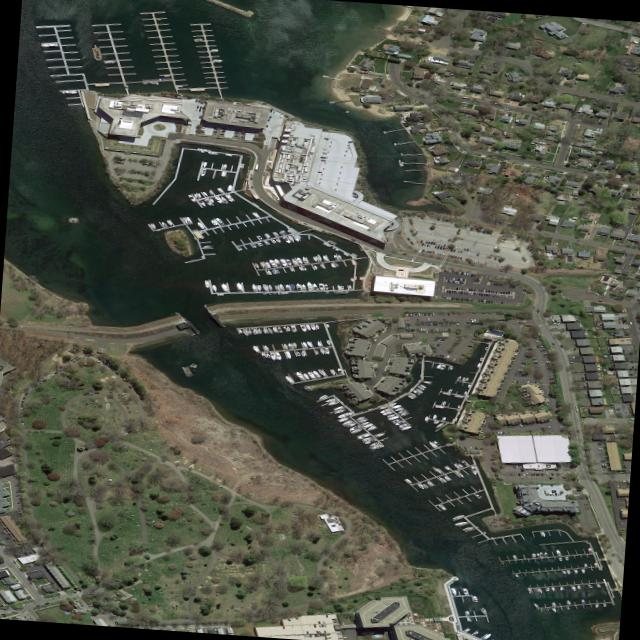large-vehicle: (98, 357, 107, 362), (253, 163, 259, 169), (493, 245, 497, 249), (279, 114, 282, 118)
ship: (336, 411, 354, 419), (294, 371, 306, 381), (355, 432, 372, 439), (181, 216, 194, 225), (284, 375, 296, 384), (370, 443, 385, 450), (450, 513, 465, 520), (431, 466, 444, 474), (453, 520, 470, 526), (272, 257, 282, 267), (316, 368, 327, 377), (333, 408, 347, 415), (481, 632, 493, 640), (454, 470, 466, 478), (434, 421, 446, 429), (389, 403, 402, 410), (325, 400, 340, 406), (267, 258, 277, 267), (311, 370, 322, 378), (214, 217, 225, 225), (223, 194, 234, 202), (218, 196, 229, 204), (212, 196, 223, 204), (186, 194, 197, 202), (317, 393, 329, 400), (379, 407, 391, 414), (386, 415, 400, 421), (349, 428, 363, 434), (363, 438, 377, 444), (461, 526, 475, 532), (278, 258, 287, 267), (268, 351, 276, 361), (306, 371, 316, 379), (281, 236, 291, 244), (221, 282, 229, 292), (210, 219, 220, 227), (197, 199, 207, 207), (361, 423, 374, 429), (338, 416, 351, 422), (385, 401, 398, 407), (399, 425, 412, 431), (393, 420, 406, 426), (341, 419, 354, 425), (344, 422, 357, 428), (348, 425, 361, 431), (360, 436, 373, 442), (437, 476, 448, 483), (427, 441, 438, 448), (39, 43, 58, 47), (365, 425, 377, 431), (374, 432, 386, 438), (284, 350, 292, 359), (274, 351, 282, 360), (301, 372, 310, 380), (332, 405, 344, 411), (251, 344, 260, 352), (393, 406, 405, 412), (396, 408, 408, 414), (397, 422, 409, 428), (286, 235, 295, 243), (368, 441, 380, 447), (449, 587, 458, 595), (291, 234, 300, 242), (252, 262, 261, 270), (196, 221, 205, 229), (203, 198, 212, 206), (416, 482, 425, 490), (236, 281, 243, 291), (250, 211, 260, 218), (192, 192, 202, 199), (470, 465, 477, 475), (324, 397, 337, 402), (299, 324, 307, 332), (321, 254, 329, 262), (258, 261, 266, 269), (284, 258, 292, 266), (199, 168, 207, 176), (286, 342, 295, 349), (306, 281, 313, 290), (211, 284, 218, 293), (359, 421, 371, 426), (354, 416, 366, 421), (414, 387, 424, 393), (408, 392, 418, 398), (381, 411, 393, 416), (389, 418, 401, 423), (425, 480, 435, 486), (437, 504, 447, 510), (312, 282, 319, 290), (295, 282, 302, 290), (461, 588, 469, 595), (309, 323, 316, 331), (289, 325, 297, 332), (305, 341, 313, 348), (315, 255, 323, 262), (290, 258, 298, 265), (295, 257, 303, 264), (301, 257, 309, 264), (165, 219, 173, 226), (357, 418, 368, 423), (412, 389, 421, 395), (432, 440, 441, 446), (443, 465, 452, 471), (460, 460, 469, 466), (61, 90, 78, 93), (386, 413, 396, 418), (331, 246, 341, 251), (321, 242, 331, 247), (630, 39, 640, 44), (336, 368, 343, 375), (263, 344, 270, 351), (323, 347, 330, 354), (318, 348, 325, 355), (480, 607, 487, 614), (317, 283, 324, 290), (278, 283, 285, 290), (301, 341, 308, 348), (261, 284, 268, 291), (305, 324, 312, 331), (276, 326, 283, 333), (325, 339, 332, 346), (311, 255, 318, 262), (264, 261, 271, 268), (149, 222, 156, 229), (328, 369, 336, 375), (419, 383, 427, 389), (266, 327, 274, 333), (201, 244, 213, 248), (207, 151, 219, 155), (160, 221, 168, 227), (216, 187, 224, 193), (453, 463, 461, 469), (443, 475, 451, 481), (406, 394, 415, 399), (399, 412, 410, 416), (555, 549, 561, 556), (282, 342, 288, 349), (323, 283, 329, 290), (267, 284, 273, 291), (472, 595, 478, 602), (336, 254, 343, 260), (350, 259, 357, 265), (333, 261, 340, 267), (265, 269, 272, 275), (201, 191, 208, 197), (226, 184, 232, 191), (202, 161, 208, 168), (222, 163, 228, 170), (103, 60, 117, 63), (604, 284, 611, 290), (301, 349, 306, 357), (422, 380, 432, 384), (378, 406, 388, 410), (251, 283, 256, 291), (204, 280, 209, 288), (422, 483, 430, 488), (454, 394, 464, 398), (295, 350, 301, 356), (265, 352, 271, 358), (260, 352, 266, 358), (416, 386, 425, 390), (291, 342, 297, 348), (471, 631, 480, 635), (273, 285, 279, 291), (537, 587, 543, 593), (314, 323, 320, 329), (271, 326, 277, 332), (257, 328, 263, 334), (252, 328, 258, 334), (246, 328, 252, 334), (316, 340, 322, 346), (319, 263, 325, 269), (301, 265, 307, 271), (208, 197, 214, 203), (208, 189, 214, 195), (220, 171, 226, 177), (587, 547, 593, 553), (475, 362, 481, 368), (540, 531, 546, 537), (441, 400, 447, 406), (264, 233, 271, 238), (281, 230, 288, 235), (274, 238, 281, 243), (464, 627, 471, 632), (301, 283, 306, 290), (532, 602, 539, 607), (256, 284, 261, 291), (253, 242, 260, 247), (475, 493, 482, 498), (538, 552, 545, 557), (342, 252, 350, 256), (456, 463, 464, 467), (273, 231, 279, 236), (271, 238, 277, 243), (290, 284, 295, 290), (285, 284, 290, 290), (580, 568, 586, 573), (571, 585, 576, 591), (580, 599, 586, 604), (550, 607, 556, 612), (285, 326, 291, 331), (262, 327, 267, 333), (242, 329, 247, 335), (237, 328, 242, 334), (330, 262, 335, 268), (297, 266, 303, 271), (288, 267, 294, 272), (271, 268, 276, 274), (251, 243, 257, 248), (602, 290, 608, 295), (375, 76, 385, 79), (543, 551, 549, 556), (531, 552, 536, 558), (435, 364, 441, 369), (440, 364, 446, 369), (424, 416, 430, 421), (431, 414, 437, 419), (527, 586, 531, 593), (433, 420, 440, 424), (224, 153, 233, 156), (442, 392, 451, 395), (435, 405, 444, 408), (286, 229, 291, 234), (336, 284, 341, 289), (565, 569, 570, 574), (566, 599, 571, 604), (333, 255, 338, 260), (512, 554, 517, 559), (442, 416, 447, 421), (449, 365, 454, 370), (448, 388, 453, 393), (256, 235, 262, 239), (278, 231, 284, 235), (264, 240, 270, 244), (258, 242, 264, 246), (466, 617, 472, 621), (583, 563, 589, 567), (561, 570, 567, 574), (595, 583, 601, 587), (587, 584, 593, 588), (296, 234, 302, 238), (237, 246, 243, 250), (212, 59, 223, 61), (539, 141, 546, 144), (315, 349, 319, 354), (348, 284, 352, 289), (466, 610, 470, 615), (593, 562, 598, 566), (551, 587, 556, 591), (551, 602, 556, 606), (275, 269, 280, 273), (193, 38, 203, 40), (558, 557, 563, 561), (479, 357, 484, 361), (484, 346, 489, 350), (535, 553, 540, 557), (457, 376, 462, 380), (461, 377, 466, 381), (467, 383, 471, 388), (463, 390, 467, 395), (210, 49, 219, 51), (431, 131, 437, 134), (559, 586, 563, 590), (573, 569, 577, 573), (546, 587, 550, 591), (602, 603, 606, 607), (313, 265, 317, 269), (564, 556, 568, 560), (93, 44, 97, 48), (216, 293, 224, 295), (503, 131, 507, 135), (521, 94, 525, 98), (465, 377, 469, 381), (457, 404, 461, 408), (350, 277, 353, 282), (565, 606, 570, 609), (341, 285, 344, 289), (514, 574, 518, 577), (577, 585, 580, 589), (595, 604, 598, 608), (450, 72, 454, 75), (634, 36, 640, 38), (155, 81, 159, 84), (200, 150, 205, 152), (600, 567, 603, 570), (467, 175, 470, 178), (468, 178, 471, 181), (96, 59, 101, 60)
small-vehicle: (349, 64, 359, 69), (494, 102, 503, 106), (73, 355, 79, 359), (564, 330, 570, 334), (48, 596, 55, 599), (20, 603, 27, 606), (87, 353, 94, 356), (495, 220, 502, 223), (588, 291, 595, 294), (377, 79, 382, 83), (23, 574, 28, 578), (76, 356, 81, 360), (127, 385, 132, 389), (550, 341, 555, 345), (608, 287, 613, 291), (518, 423, 523, 427), (388, 94, 394, 97), (366, 70, 372, 73), (87, 612, 93, 615), (32, 569, 38, 572), (5, 611, 11, 614), (95, 360, 101, 363), (460, 353, 466, 356), (519, 364, 525, 367), (440, 337, 446, 340), (559, 330, 565, 333), (560, 326, 566, 329), (350, 238, 356, 241), (539, 161, 545, 164), (503, 107, 509, 110), (555, 322, 561, 325), (323, 623, 327, 627), (34, 587, 38, 591), (28, 550, 32, 554), (571, 355, 575, 359), (633, 370, 637, 374), (621, 320, 625, 324), (470, 318, 474, 322), (419, 239, 423, 243), (551, 107, 555, 111), (559, 344, 563, 348), (617, 191, 621, 195), (593, 221, 597, 225), (601, 184, 605, 188), (595, 127, 599, 131), (463, 247, 467, 251), (439, 246, 443, 250), (436, 245, 440, 249), (459, 256, 463, 260), (424, 240, 428, 244), (459, 249, 463, 253), (441, 246, 445, 250), (409, 240, 413, 244), (551, 313, 555, 317), (286, 618, 291, 621), (363, 71, 368, 74), (60, 598, 65, 601), (44, 602, 49, 605), (35, 604, 40, 607), (16, 616, 21, 619), (15, 488, 20, 491), (23, 552, 28, 555), (66, 361, 71, 364), (58, 368, 63, 371), (53, 371, 58, 374), (49, 371, 54, 374), (28, 385, 33, 388), (26, 389, 31, 392), (123, 432, 128, 435), (111, 368, 116, 371), (107, 365, 112, 368), (433, 338, 438, 341), (431, 341, 436, 344), (453, 337, 458, 340), (438, 339, 443, 342), (435, 353, 440, 356), (580, 377, 585, 380), (440, 338, 445, 341), (452, 357, 457, 360), (467, 344, 472, 347), (552, 322, 557, 325), (572, 347, 577, 350), (303, 222, 308, 225), (324, 137, 329, 140), (597, 122, 602, 125), (574, 236, 579, 239), (14, 483, 19, 486), (5, 537, 10, 540), (564, 471, 569, 474), (449, 196, 454, 199), (621, 189, 626, 192), (506, 222, 511, 225), (599, 128, 604, 131), (546, 142, 551, 145), (451, 255, 456, 258), (477, 259, 482, 262), (429, 89, 434, 92), (474, 278, 479, 281), (332, 621, 339, 623), (250, 186, 254, 189), (294, 616, 298, 619), (317, 621, 321, 624), (29, 581, 33, 584), (50, 581, 54, 584), (55, 588, 59, 591), (65, 597, 71, 599), (34, 562, 38, 565), (86, 609, 90, 612), (27, 564, 31, 567), (19, 553, 23, 556), (20, 419, 23, 423), (17, 501, 21, 504), (15, 490, 19, 493), (16, 492, 20, 495), (14, 554, 18, 557), (67, 592, 73, 594), (2, 608, 8, 610), (0, 613, 6, 615), (23, 615, 27, 618), (252, 138, 258, 140), (252, 136, 258, 138), (252, 133, 258, 135), (212, 131, 218, 133), (212, 129, 218, 131), (199, 130, 205, 132), (269, 108, 272, 112), (194, 99, 198, 102), (42, 376, 46, 379), (63, 363, 67, 366), (62, 366, 66, 369), (55, 368, 59, 371), (46, 374, 50, 377), (47, 376, 51, 379), (42, 379, 46, 382), (38, 379, 42, 382), (34, 381, 38, 384), (34, 384, 38, 387), (84, 354, 90, 356), (82, 393, 88, 395), (115, 372, 119, 375), (105, 363, 111, 365), (373, 338, 377, 341), (517, 370, 523, 372), (520, 362, 526, 364), (531, 357, 537, 359), (434, 337, 440, 339), (532, 360, 538, 362), (540, 349, 546, 351), (538, 345, 544, 347), (575, 408, 579, 411), (615, 408, 621, 410), (580, 385, 584, 388), (607, 409, 611, 412), (549, 380, 555, 382), (432, 346, 438, 348), (617, 317, 621, 320), (619, 339, 625, 341), (623, 335, 629, 337), (629, 321, 632, 325), (461, 337, 467, 339), (406, 326, 412, 328), (432, 312, 435, 316), (435, 328, 439, 331), (447, 328, 451, 331), (620, 326, 626, 328), (417, 313, 421, 316), (540, 427, 544, 430), (442, 318, 446, 321), (549, 328, 553, 331), (532, 336, 538, 338), (597, 452, 603, 454), (583, 503, 589, 505), (398, 269, 404, 271), (320, 156, 326, 158), (381, 94, 385, 97), (380, 97, 386, 99), (560, 464, 563, 468), (530, 429, 534, 432), (545, 472, 549, 475), (14, 520, 18, 523), (555, 242, 559, 245), (596, 214, 600, 217), (465, 248, 469, 251), (479, 160, 483, 163), (442, 243, 446, 246), (470, 258, 474, 261), (433, 245, 437, 248), (428, 244, 432, 247), (423, 243, 427, 246), (454, 255, 458, 258), (456, 256, 460, 259), (464, 257, 468, 260), (453, 246, 457, 249), (452, 249, 456, 252), (492, 109, 496, 112), (463, 104, 467, 107), (461, 90, 465, 93), (477, 43, 481, 46), (406, 237, 410, 240), (452, 290, 456, 293), (448, 289, 451, 293), (443, 289, 447, 292), (478, 298, 481, 302), (450, 297, 454, 300), (480, 292, 483, 296), (502, 290, 505, 294), (462, 287, 466, 290), (470, 273, 474, 276), (421, 249, 425, 252), (426, 250, 430, 253), (429, 250, 433, 253), (431, 251, 435, 254), (434, 252, 438, 255), (442, 252, 445, 256), (472, 281, 478, 283), (490, 281, 493, 285), (459, 278, 463, 281), (457, 277, 460, 281), (326, 636, 331, 638), (325, 633, 330, 635), (337, 637, 342, 639), (336, 634, 341, 636), (336, 632, 341, 634), (331, 618, 336, 620), (111, 614, 116, 616), (15, 496, 20, 498), (33, 430, 38, 432), (15, 494, 20, 496), (17, 507, 22, 509), (0, 531, 5, 533), (1, 532, 6, 534), (7, 607, 12, 609), (11, 610, 16, 612), (233, 135, 238, 137), (241, 133, 246, 135), (240, 136, 245, 138), (212, 132, 217, 134), (200, 129, 205, 131), (200, 126, 205, 128), (38, 382, 43, 384), (29, 387, 34, 389), (88, 392, 93, 394), (121, 379, 126, 381), (546, 367, 551, 369), (544, 355, 549, 357), (542, 352, 547, 354), (535, 340, 540, 342), (548, 408, 553, 410), (616, 413, 621, 415), (395, 352, 400, 354), (435, 344, 440, 346), (436, 342, 441, 344), (519, 301, 524, 303), (465, 320, 470, 322), (470, 340, 475, 342), (405, 323, 410, 325), (405, 320, 410, 322), (559, 430, 564, 432), (628, 373, 633, 375), (427, 262, 432, 264), (357, 241, 362, 243), (317, 171, 322, 173), (321, 159, 326, 161), (322, 152, 327, 154), (322, 148, 327, 150), (546, 426, 551, 428), (601, 464, 606, 466), (635, 253, 640, 255), (583, 170, 588, 172), (554, 134, 559, 136), (424, 30, 429, 32), (473, 280, 478, 282), (475, 277, 480, 279), (549, 317, 554, 319), (595, 293, 600, 295), (521, 291, 526, 293), (319, 634, 322, 637), (316, 634, 319, 637), (313, 634, 316, 637), (304, 634, 307, 637), (250, 177, 253, 180), (250, 173, 253, 176), (316, 630, 319, 633), (282, 626, 285, 629), (318, 630, 321, 633), (322, 620, 325, 623), (318, 624, 321, 627), (313, 624, 316, 627), (13, 560, 16, 563), (22, 583, 25, 586), (109, 612, 112, 615), (37, 591, 40, 594), (32, 563, 35, 566), (17, 566, 20, 569), (26, 551, 29, 554), (20, 400, 23, 403), (201, 109, 204, 112), (22, 396, 25, 399), (198, 109, 201, 112), (199, 106, 202, 109), (196, 105, 199, 108), (519, 373, 522, 376), (536, 309, 539, 312), (441, 354, 444, 357), (576, 429, 579, 432), (534, 380, 537, 383), (577, 418, 580, 421), (516, 380, 519, 383), (526, 380, 529, 383), (631, 365, 634, 368), (625, 357, 628, 360), (622, 349, 625, 352), (618, 321, 621, 324), (627, 348, 630, 351), (419, 322, 422, 325), (422, 322, 425, 325), (427, 322, 430, 325), (422, 328, 425, 331), (430, 328, 433, 331), (414, 312, 417, 315), (423, 312, 426, 315), (427, 312, 430, 315), (447, 312, 450, 315), (620, 316, 623, 319), (427, 318, 430, 321), (552, 319, 555, 322), (512, 285, 515, 288), (613, 108, 616, 111), (415, 229, 418, 232), (570, 110, 573, 113), (472, 60, 475, 63), (469, 60, 472, 63), (574, 80, 577, 83), (494, 257, 497, 260), (538, 473, 541, 476), (530, 472, 533, 475), (510, 472, 513, 475), (525, 472, 528, 475), (464, 446, 467, 449), (474, 446, 477, 449), (469, 446, 472, 449), (499, 431, 502, 434), (497, 431, 500, 434), (556, 472, 559, 475), (558, 472, 561, 475), (214, 628, 217, 631), (616, 485, 619, 488), (554, 493, 557, 496), (549, 493, 552, 496), (551, 490, 554, 493), (495, 294, 498, 297), (492, 294, 495, 297), (553, 242, 556, 245), (569, 244, 572, 247), (460, 173, 463, 176), (426, 244, 429, 247), (427, 241, 430, 244), (430, 241, 433, 244), (435, 242, 438, 245), (450, 249, 453, 252), (457, 249, 460, 252), (476, 253, 479, 256), (467, 251, 470, 254), (414, 79, 417, 82), (460, 291, 463, 294), (456, 290, 459, 293), (450, 290, 453, 293), (490, 300, 493, 303), (500, 300, 503, 303), (483, 299, 486, 302), (448, 286, 451, 289), (470, 298, 473, 301), (463, 297, 466, 300), (460, 298, 463, 301), (458, 297, 461, 300), (455, 297, 458, 300), (453, 297, 456, 300), (463, 291, 466, 294), (455, 287, 458, 290), (495, 290, 498, 293), (478, 292, 481, 295), (507, 291, 510, 294), (505, 291, 508, 294), (492, 290, 495, 293), (485, 289, 488, 292), (483, 289, 486, 292), (470, 288, 473, 291), (446, 296, 449, 299), (443, 296, 446, 299), (468, 272, 471, 275), (466, 272, 469, 275), (463, 272, 466, 275), (458, 271, 461, 274), (455, 271, 458, 274), (424, 250, 427, 253), (437, 252, 440, 255), (444, 279, 447, 282), (446, 280, 449, 283), (554, 319, 557, 322), (502, 283, 505, 286), (500, 283, 503, 286), (498, 283, 501, 286), (495, 283, 498, 286), (493, 282, 496, 285), (462, 278, 465, 281), (454, 277, 457, 280), (452, 277, 455, 280), (461, 281, 464, 284), (459, 281, 462, 284), (456, 281, 459, 284), (454, 280, 457, 283), (451, 280, 454, 283), (449, 280, 452, 283), (101, 600, 105, 602), (27, 430, 31, 432), (17, 554, 21, 556), (55, 595, 59, 597), (21, 403, 23, 407), (221, 130, 225, 132), (234, 132, 238, 134), (220, 133, 224, 135), (70, 359, 74, 361), (72, 360, 76, 362), (59, 366, 63, 368), (50, 374, 54, 376), (630, 380, 634, 382), (549, 377, 553, 379), (443, 355, 447, 357), (624, 333, 628, 335), (570, 361, 574, 363), (455, 323, 459, 325), (598, 300, 602, 302), (355, 609, 359, 611), (637, 287, 639, 291), (587, 232, 591, 234), (439, 253, 443, 255), (321, 634, 324, 636), (309, 634, 311, 637), (307, 634, 309, 637), (326, 614, 328, 617), (321, 624, 323, 627), (324, 630, 326, 633), (30, 564, 33, 566), (20, 407, 22, 410), (20, 415, 22, 418), (266, 124, 268, 127), (267, 119, 270, 121), (269, 116, 272, 118), (204, 100, 206, 103), (198, 99, 200, 102), (202, 106, 204, 109), (24, 393, 27, 395), (196, 108, 198, 111), (439, 354, 442, 356), (505, 295, 507, 298), (498, 294, 500, 297), (430, 322, 432, 325), (433, 322, 435, 325), (516, 465, 518, 468), (435, 322, 437, 325), (502, 465, 504, 468), (541, 473, 543, 476), (536, 472, 538, 475), (533, 472, 535, 475), (523, 473, 525, 476), (518, 472, 520, 475), (513, 465, 515, 468), (490, 459, 496, 460), (489, 457, 495, 458), (551, 472, 553, 475), (552, 493, 554, 496), (558, 492, 560, 495), (544, 490, 546, 493), (488, 293, 490, 296), (481, 206, 487, 207), (433, 242, 436, 244), (486, 293, 488, 296), (486, 299, 488, 302), (446, 289, 448, 292), (488, 300, 490, 303), (481, 299, 483, 302), (468, 298, 470, 301), (466, 298, 468, 301), (483, 293, 485, 296), (473, 292, 475, 295), (471, 292, 473, 295), (466, 291, 468, 294), (500, 290, 502, 293), (490, 290, 493, 292), (480, 289, 483, 291), (478, 289, 481, 291), (475, 289, 478, 291), (473, 288, 475, 291), (468, 288, 471, 290), (465, 288, 468, 290), (448, 297, 451, 299), (449, 269, 451, 272), (460, 272, 463, 274), (453, 271, 456, 273), (447, 269, 449, 272), (444, 269, 446, 272), (445, 277, 448, 279), (332, 620, 337, 621), (40, 431, 45, 432), (220, 132, 225, 133), (233, 134, 238, 135), (241, 135, 246, 136), (94, 392, 99, 393), (531, 359, 536, 360), (518, 369, 523, 370), (532, 362, 537, 363), (545, 361, 550, 362), (543, 354, 548, 355), (628, 422, 633, 423), (546, 403, 551, 404), (406, 325, 411, 326), (405, 322, 410, 323), (614, 313, 619, 314), (559, 429, 564, 430), (547, 429, 552, 430), (559, 426, 564, 427), (597, 442, 602, 443), (597, 444, 602, 445), (598, 448, 603, 449), (600, 460, 605, 461), (600, 462, 605, 463), (601, 463, 606, 464), (601, 466, 606, 467), (306, 631, 308, 633), (195, 626, 199, 627), (159, 627, 163, 628), (22, 426, 24, 428), (20, 411, 22, 413), (254, 135, 258, 136), (548, 432, 552, 433), (554, 490, 556, 492), (458, 291, 460, 293), (468, 292, 470, 294), (488, 290, 490, 292), (0, 477, 2, 478)
